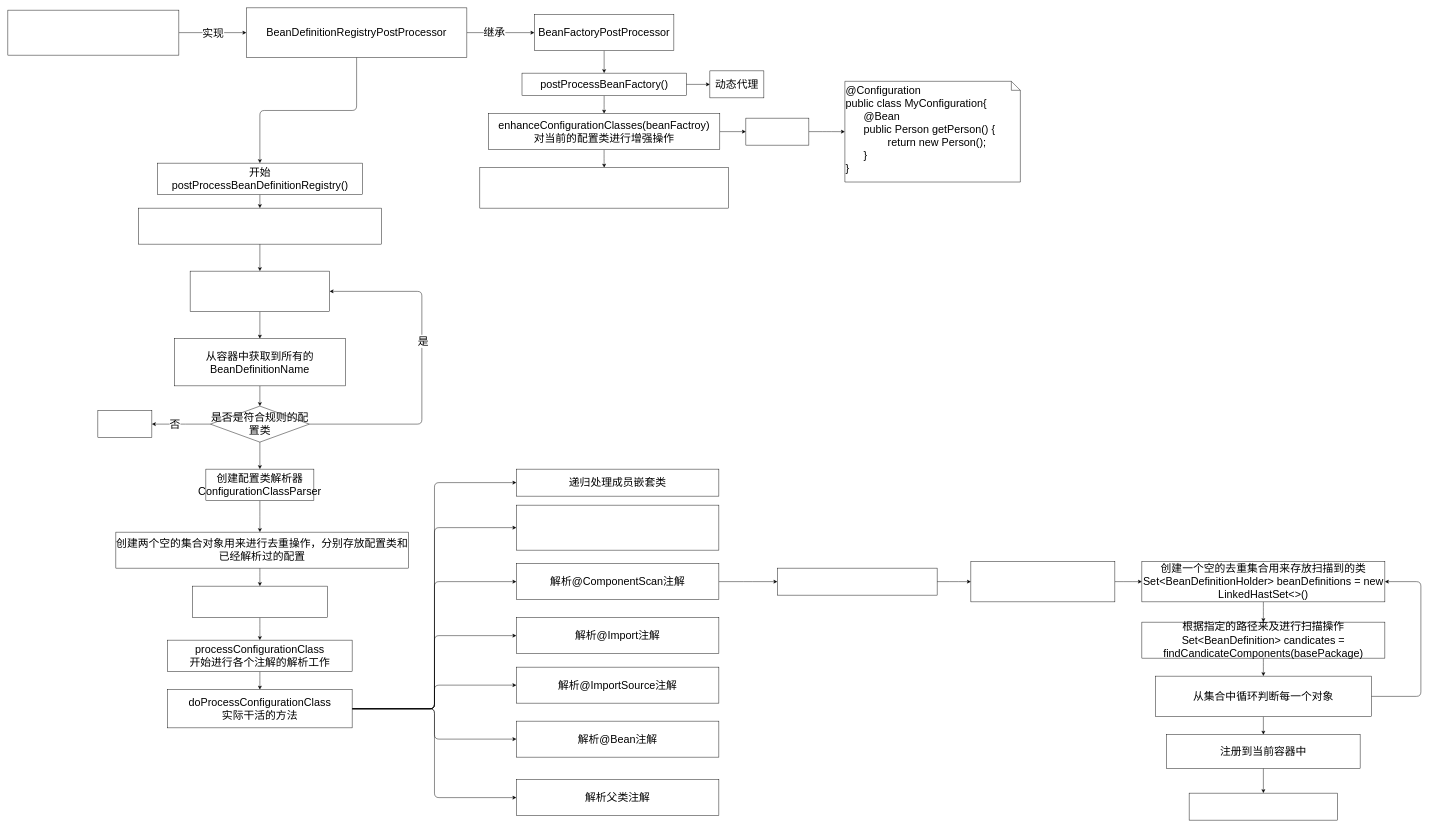
Some shapes in this 1432 by 828 pixel diagram are drawn without their labels. Here are the shapes that lost their labels. From the top down, the box of each, then its label:
(7, 10, 179, 55): ConfigurationClassPostProcessor
(745, 118, 809, 145): @Bean的单例问题
(479, 167, 728, 208): 向容器中添加BeanPostProcessor ImportAwareBeanPostProcessor.class
(138, 208, 381, 244): processConfigBeanDefinitions(registry) 处理配置类的解析信息
(190, 271, 330, 312): 创建一个空的list集合，用来存放BeanDefinition
(97, 410, 152, 438): 直接忽略
(516, 505, 719, 550): 解析@PropertySource注解
(777, 568, 937, 595): 解析@ComponentScan注解中包含的属性值
(970, 561, 1115, 602): doScan(String... basePackages)
(192, 586, 327, 618): parser.parse() 核心的解析流程
(1189, 793, 1338, 820): 返回刚刚创建好的集合对象beanDefinitions
